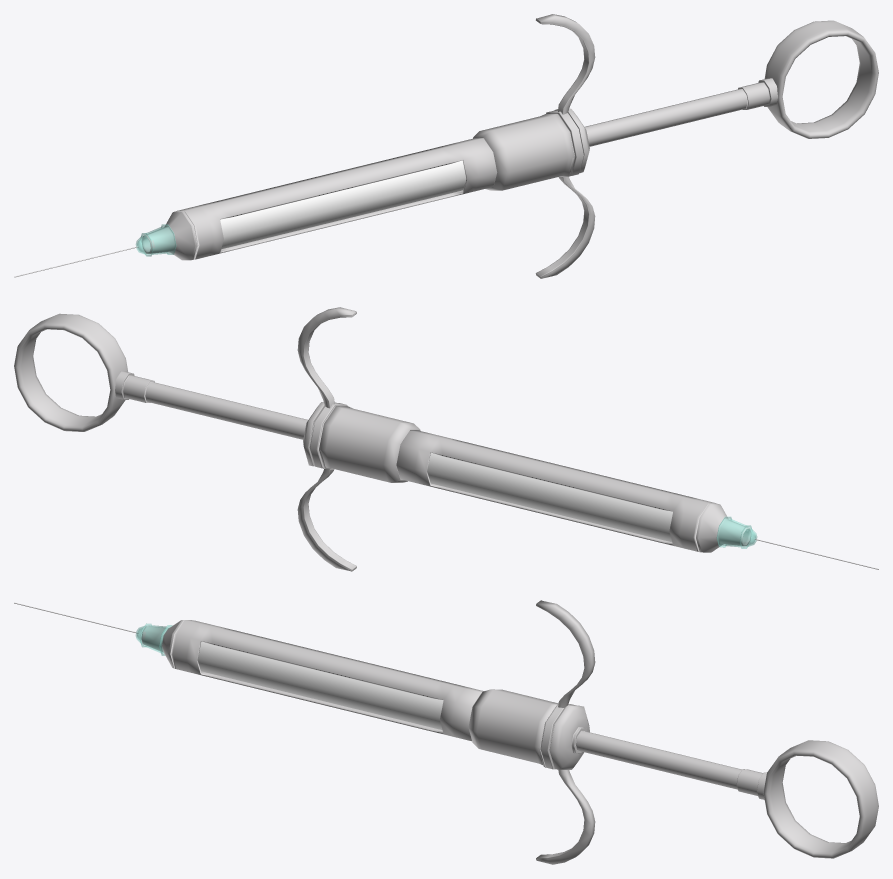
File: dental_syringe.glb
3 renders of one model, top to bottom at view 1: azimuth 30°, elevation 25°; view 2: azimuth 150°, elevation 25°; view 3: azimuth 330°, elevation 25°, orthographic.
Parts seen in each view (by area): view 1: steelBody, plunger_iron, glass_interior, cap; view 2: steelBody, plunger_iron, glass_interior, cap; view 3: steelBody, plunger_iron, glass_interior, cap.
Part boxes in pixels (<box>): steelBody: <box>141,14,595,278</box>; plunger_iron: <box>584,20,878,146</box>; glass_interior: <box>220,160,465,249</box>; cap: <box>135,224,176,256</box>; steelBody: <box>297,307,751,571</box>; plunger_iron: <box>14,313,307,439</box>; glass_interior: <box>427,452,672,542</box>; cap: <box>716,516,757,548</box>; steelBody: <box>141,600,595,864</box>; plunger_iron: <box>576,731,878,858</box>; glass_interior: <box>198,641,443,729</box>; cap: <box>135,623,172,655</box>.
Size of the model in its own units: 0.2014 by 0.0579 by 0.0146.
